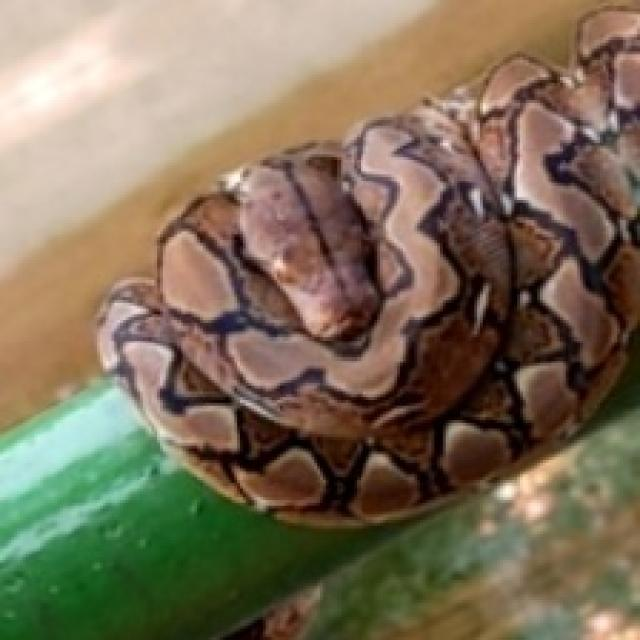reticulated python: (97, 9, 637, 523)
